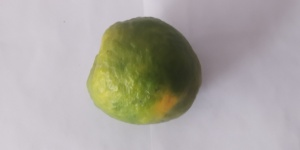BAD: (85, 16, 202, 128)
